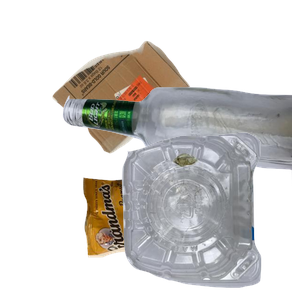cardboard: (50, 38, 233, 184)
glass: (60, 84, 300, 260)
plastic: (119, 130, 300, 300)
trash: (81, 168, 261, 300)
